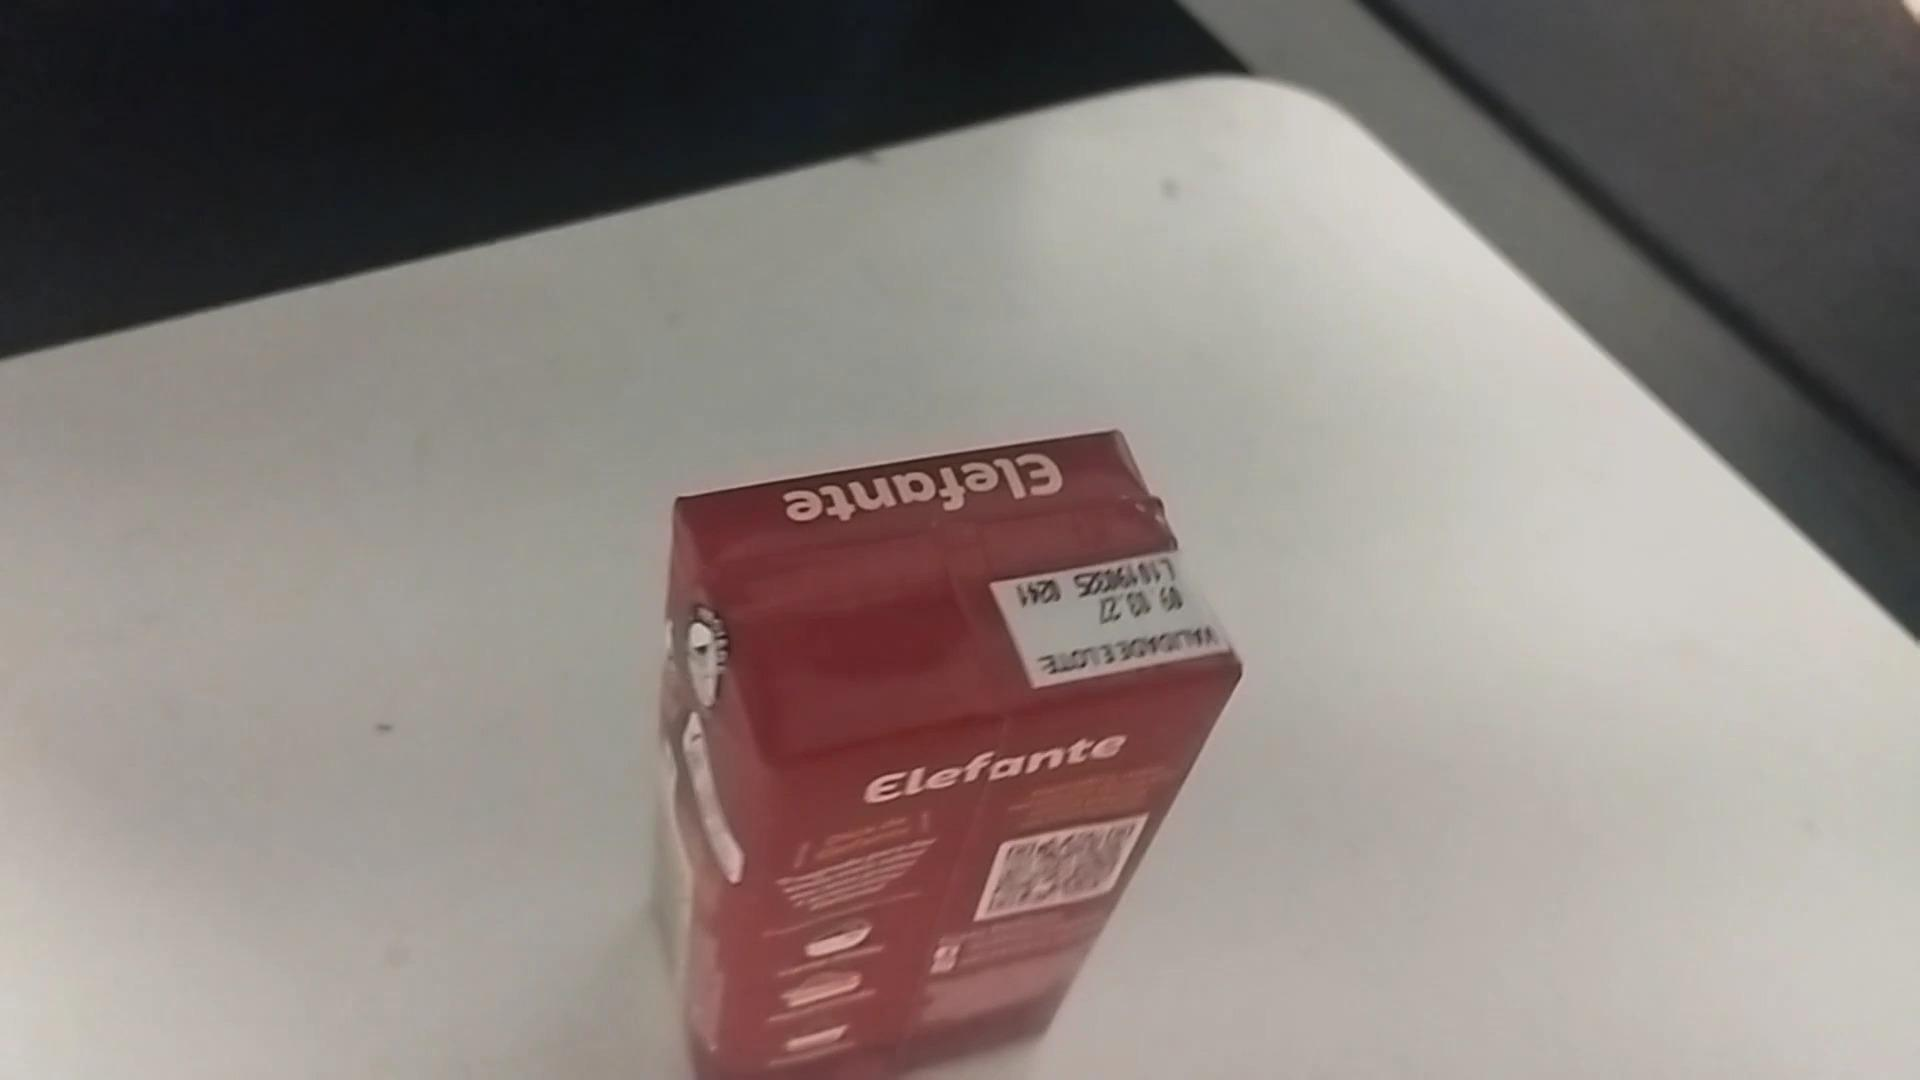tomate: (644, 423, 1280, 1069)
